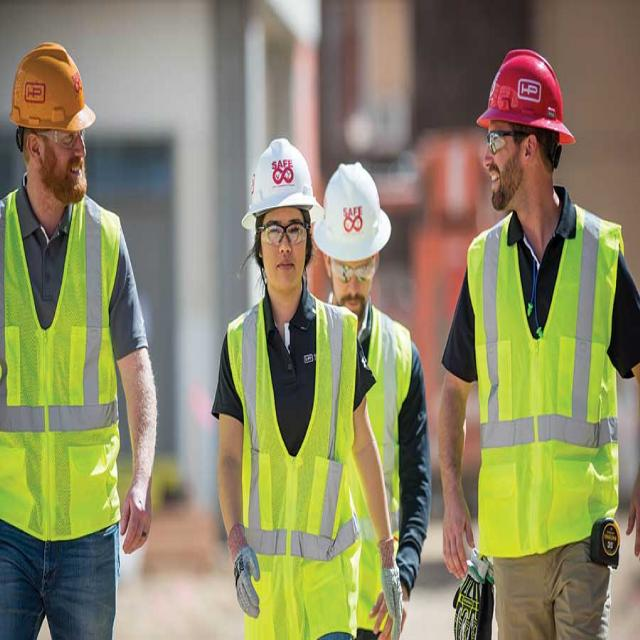Reflective-Jacket: (223, 300, 413, 640), (463, 208, 629, 564), (0, 191, 128, 540)
Safety-Helmet: (474, 43, 578, 146), (8, 38, 97, 138), (316, 154, 393, 265), (242, 128, 318, 229)
